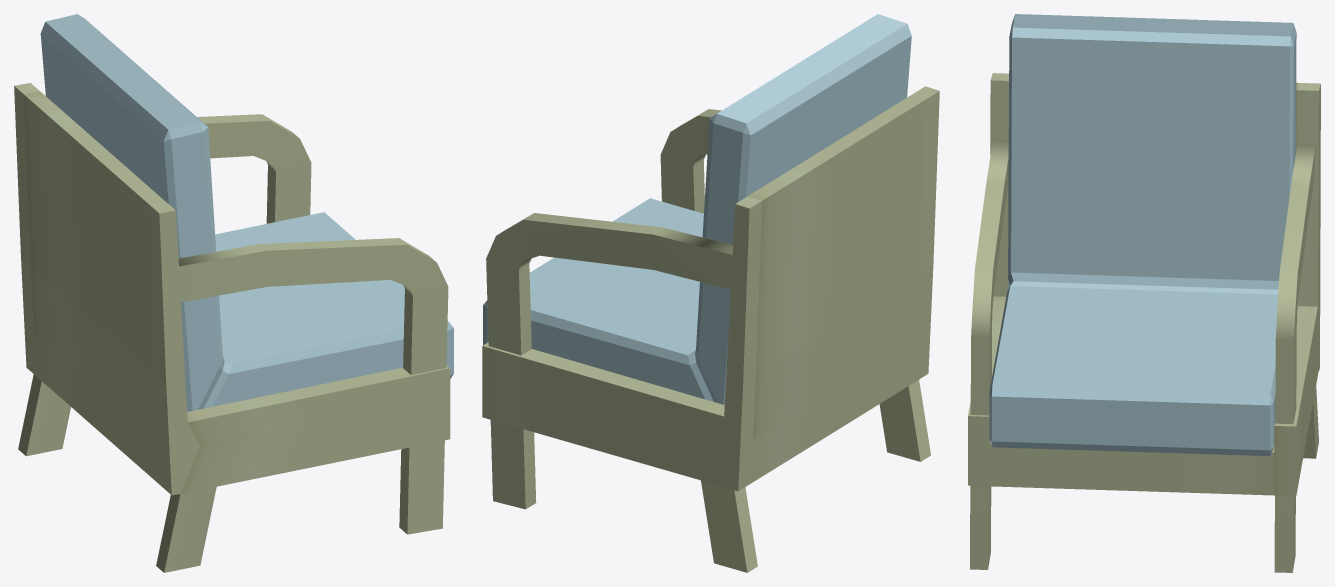
File: Patio_Chair.fbx
The picture shows the model from 3 angles, left to right: view 1: azimuth 30°, elevation 25°; view 2: azimuth 150°, elevation 25°; view 3: azimuth 270°, elevation 25°; orthographic projection. The views are drawn at different scales.
Parts seen in each view (by area): view 1: Patio_Chair; view 2: Patio_Chair; view 3: Patio_Chair.
Part boxes in pixels (bbox=[...]): Patio_Chair: bbox=[14, 14, 453, 572]; Patio_Chair: bbox=[482, 14, 939, 572]; Patio_Chair: bbox=[968, 14, 1320, 572].
Size of the model in its own units: 95.79 by 130 by 95.39.
